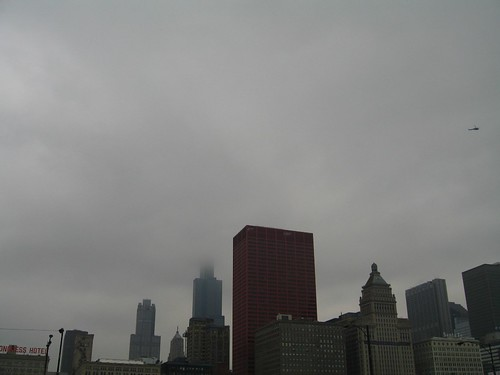building: (234, 229, 314, 368), (352, 262, 415, 372), (256, 318, 347, 375), (57, 333, 170, 375), (462, 262, 500, 345), (193, 233, 227, 324), (184, 315, 232, 375), (124, 293, 160, 357), (418, 340, 483, 375), (415, 275, 449, 337)
sky: (1, 1, 500, 279)
